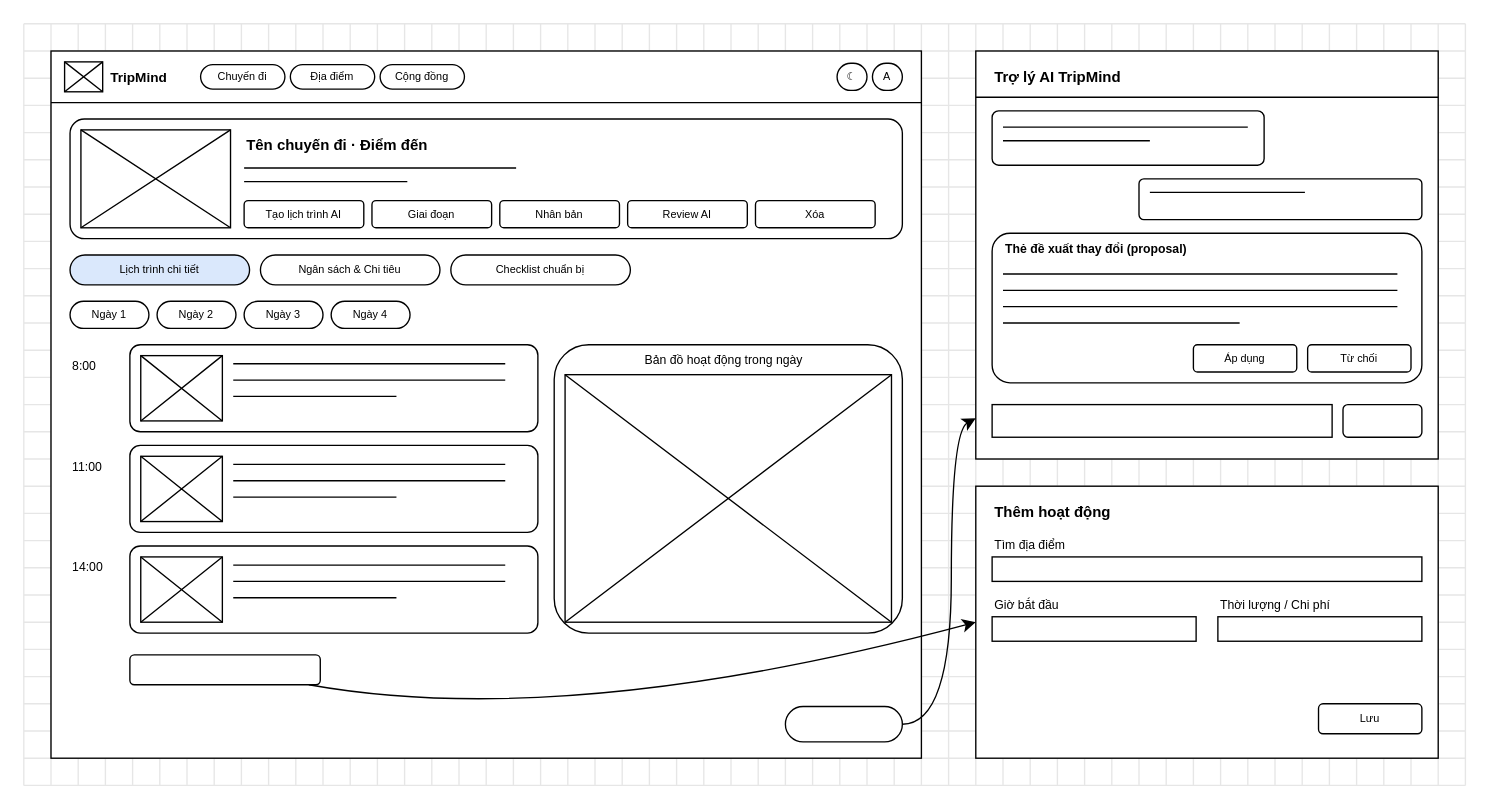
This 1491x811 diagram has some shape labels left out. The shapes that lost their labels are listed below. From the top down, each one's box as (x1, y1, x2, y2) in pixels, then its label:
(1342, 403, 1422, 437): Gửi
(129, 653, 320, 685): + Thêm hoạt động
(784, 705, 902, 742): Trợ lý AI
